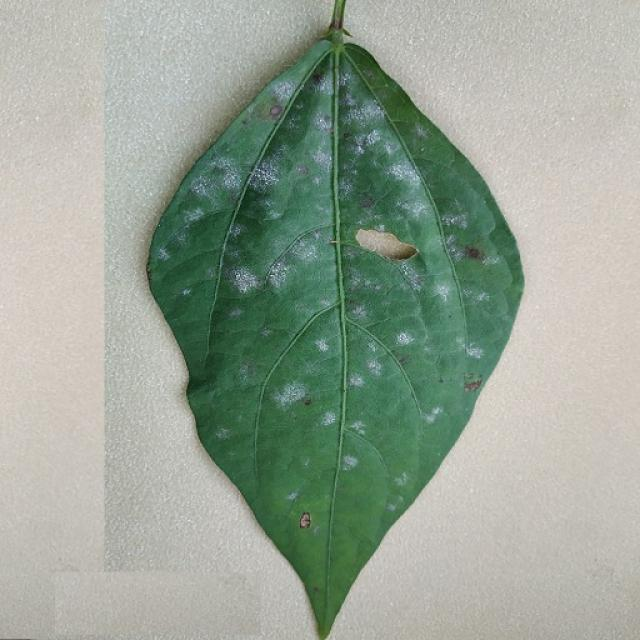Blackgram: (149, 34, 522, 638)
Powdery_Mildew: (347, 268, 390, 300), (228, 260, 261, 295), (190, 170, 223, 199), (250, 163, 281, 193), (289, 239, 319, 266), (354, 99, 384, 125), (278, 381, 306, 406), (401, 265, 425, 292), (270, 78, 295, 103), (314, 70, 335, 94), (221, 168, 242, 191), (312, 110, 333, 133), (269, 267, 290, 289), (224, 245, 245, 267), (390, 162, 413, 181), (407, 199, 428, 219), (184, 206, 205, 225), (386, 494, 405, 513), (238, 362, 258, 380), (442, 213, 464, 228), (339, 177, 357, 195), (395, 331, 415, 346), (341, 454, 358, 471), (340, 90, 357, 107), (365, 129, 382, 145), (314, 150, 331, 166), (436, 285, 451, 303), (321, 411, 337, 427), (350, 305, 367, 320), (483, 252, 500, 266), (394, 472, 409, 487), (229, 223, 244, 238), (466, 344, 482, 358), (414, 124, 429, 138), (349, 420, 365, 433), (314, 339, 329, 352), (367, 360, 381, 373), (156, 247, 170, 260), (384, 142, 397, 156), (349, 374, 364, 386), (215, 427, 230, 439), (352, 143, 366, 155), (476, 291, 490, 303), (228, 307, 243, 318), (424, 412, 437, 423), (430, 405, 442, 416), (312, 175, 323, 186), (320, 298, 332, 308), (180, 287, 192, 297), (286, 491, 298, 501), (205, 267, 215, 279), (301, 457, 311, 468), (377, 223, 386, 231)
